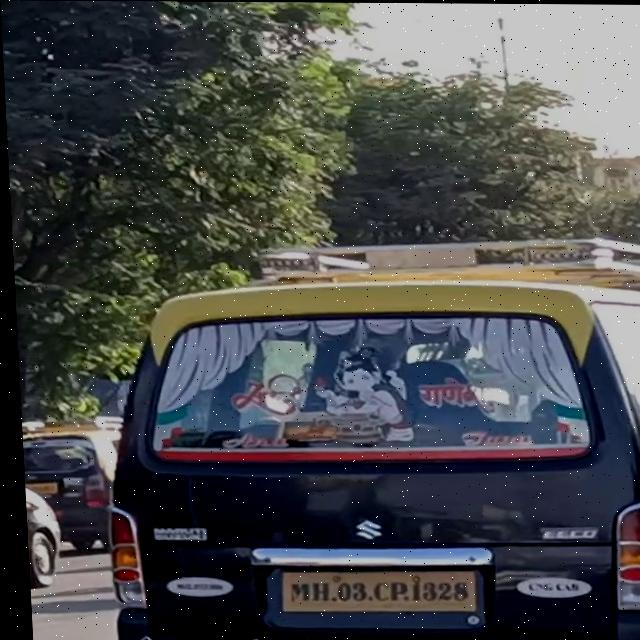plate: (272, 566, 476, 614)
